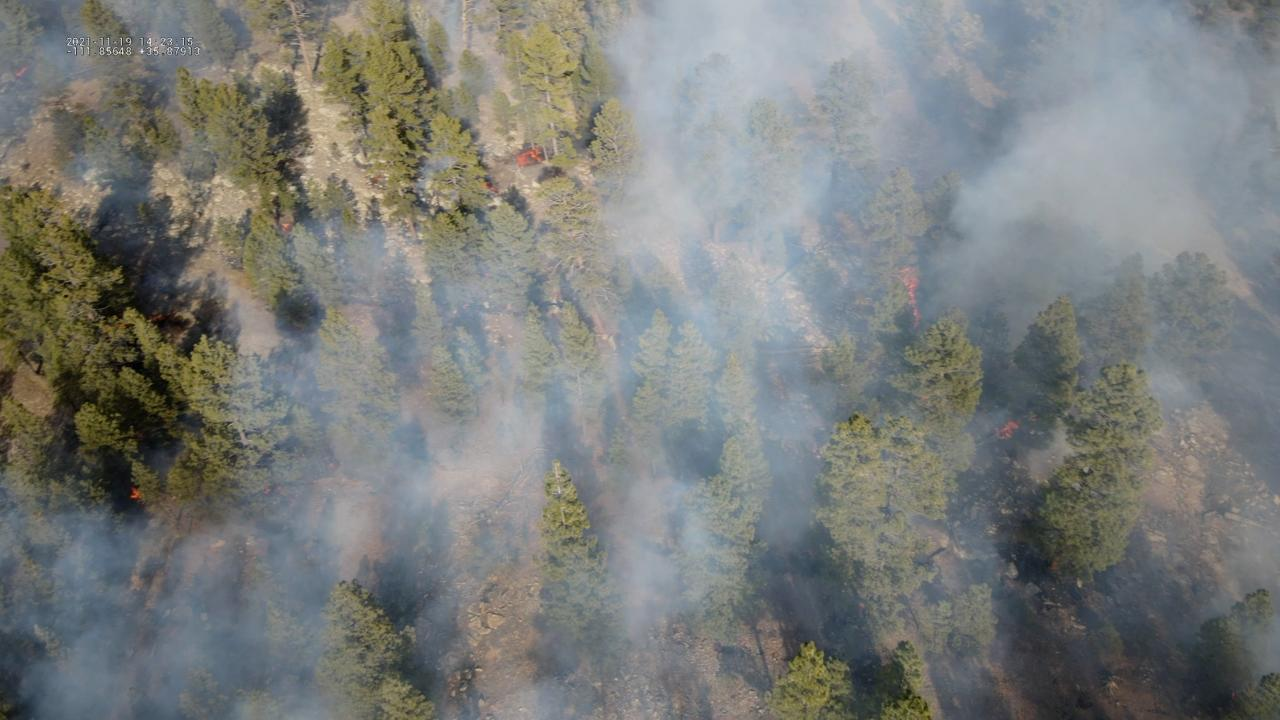fire: (896, 262, 923, 328), (514, 145, 546, 169), (996, 419, 1022, 441), (478, 180, 499, 196), (127, 486, 143, 501), (280, 221, 291, 234)
smoke: (0, 0, 1280, 720)
